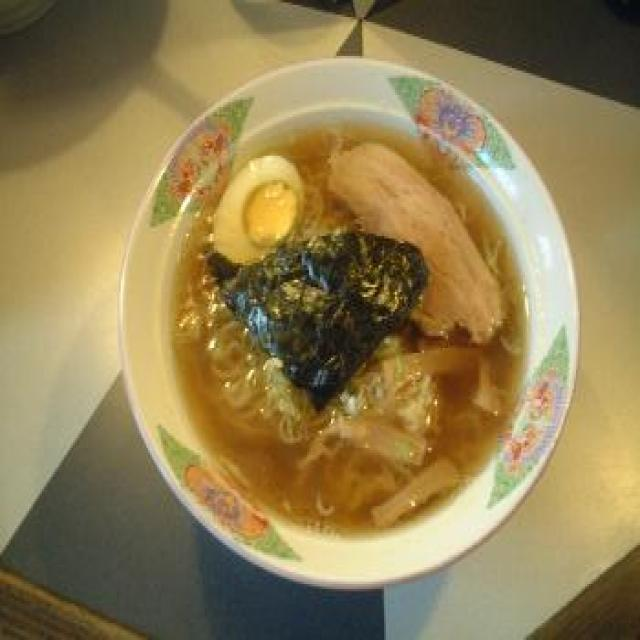面条主食: (116, 51, 584, 589)
